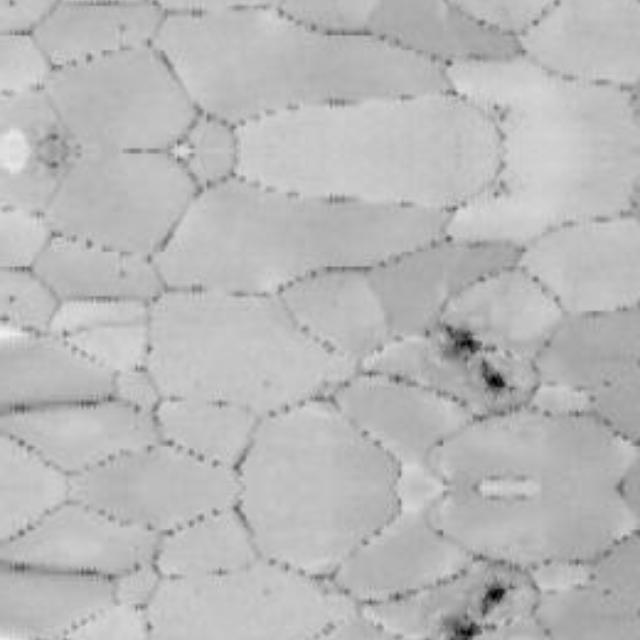good_void: (439, 325, 484, 364), (476, 358, 515, 399), (476, 579, 515, 620), (442, 614, 484, 640)
